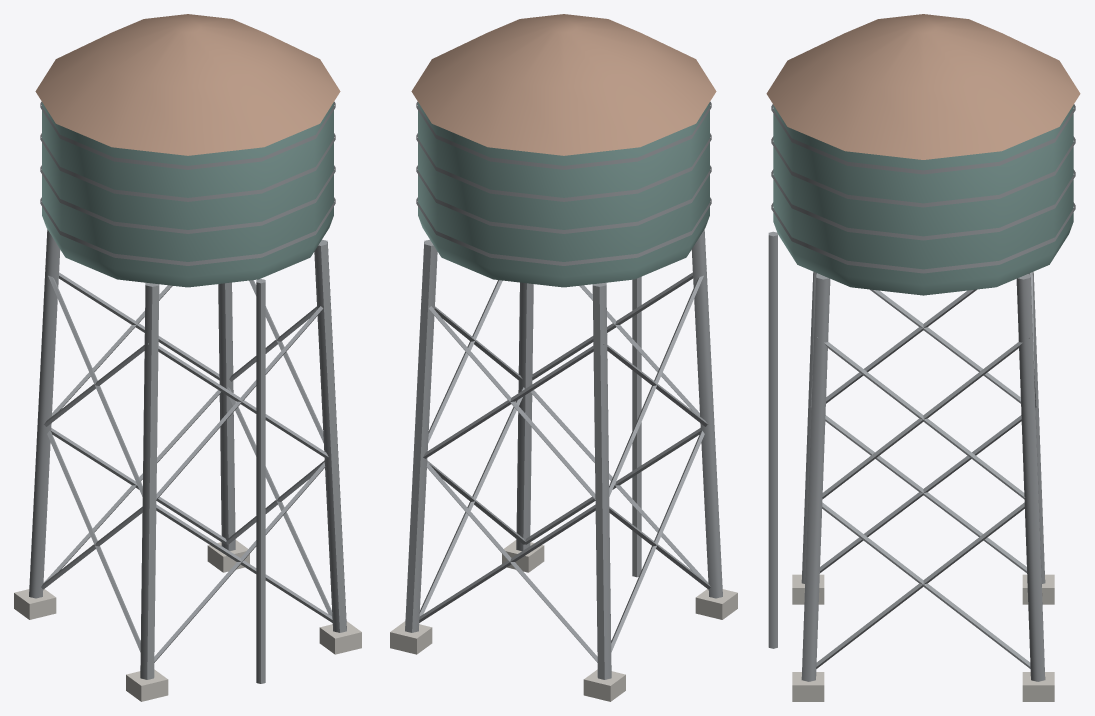
The model's file is water_tower.fbx.
3 renders of one model, left to right at view 1: azimuth 30°, elevation 25°; view 2: azimuth 150°, elevation 25°; view 3: azimuth 270°, elevation 25°, orthographic. The views are drawn at different scales.
Visible parts, largest first — view 1: water_tower; view 2: water_tower; view 3: water_tower.
Boxes of the visible parts, box(x1,y1,x2,y2) form: water_tower: box(14, 14, 361, 701); water_tower: box(390, 14, 737, 701); water_tower: box(766, 14, 1080, 701).
Bounding box in the file's own units: 6.9 × 15.01 × 6.9.
